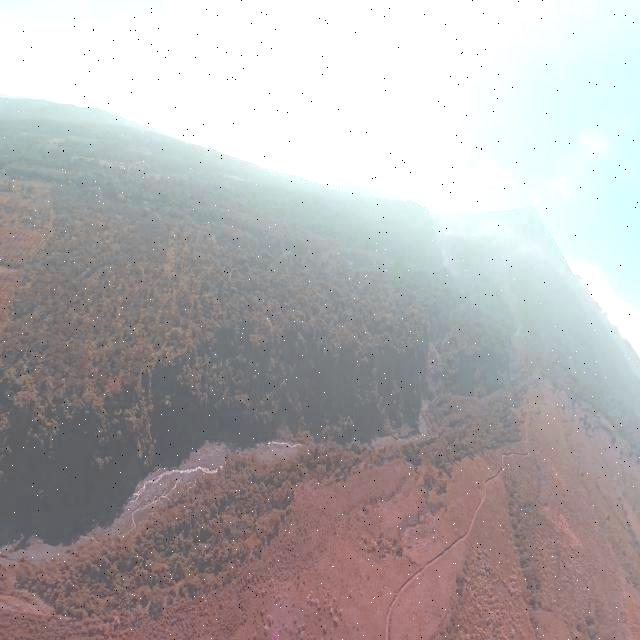Summit: (528, 204, 540, 214)
